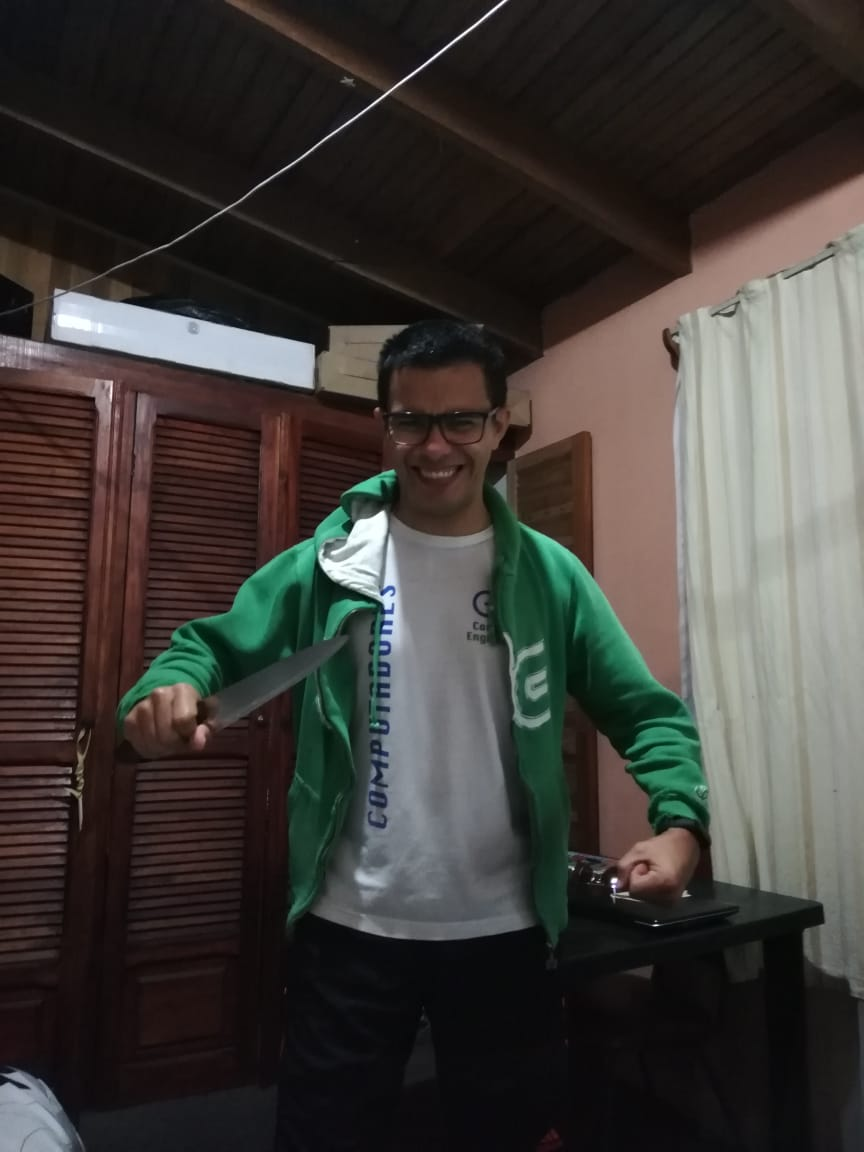knife: (112, 635, 357, 760)
